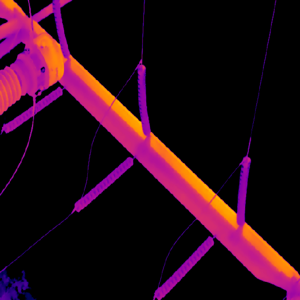insulator: (153, 238, 214, 300), (73, 155, 134, 212), (2, 86, 64, 133), (233, 155, 251, 227), (135, 61, 151, 138), (51, 0, 68, 58)
